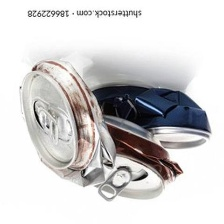can: (16, 52, 118, 188), (79, 112, 185, 210), (97, 82, 214, 154)
